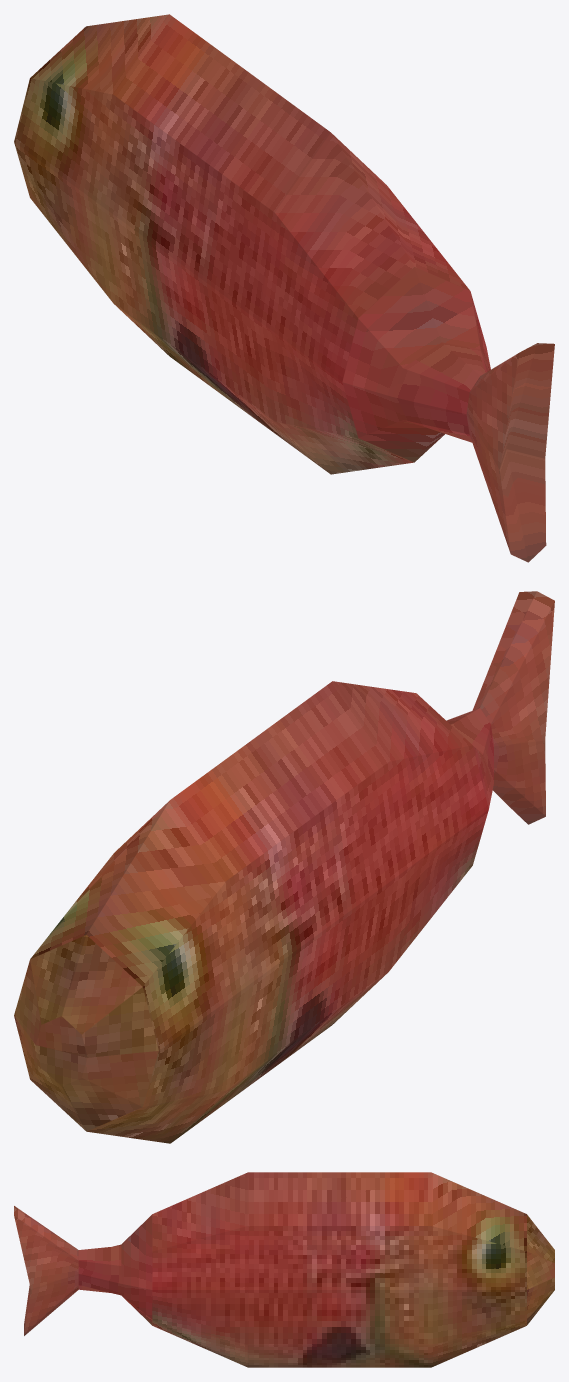
File: fish_basic_red.gltf
The picture shows the model from 3 angles, top to bottom: view 1: azimuth 30°, elevation 25°; view 2: azimuth 150°, elevation 25°; view 3: azimuth 270°, elevation 25°; orthographic projection. The views are drawn at different scales.
Parts seen in each view (by area): view 1: Cube; view 2: Cube; view 3: Cube.
Boxes of the visible parts, <box> form: Cube: <box>14,14,554,562</box>; Cube: <box>14,591,554,1143</box>; Cube: <box>14,1172,554,1367</box>.
Bounding box in the file's own units: 2.44 × 5.54 × 13.91.
1 material, 1 textured.
